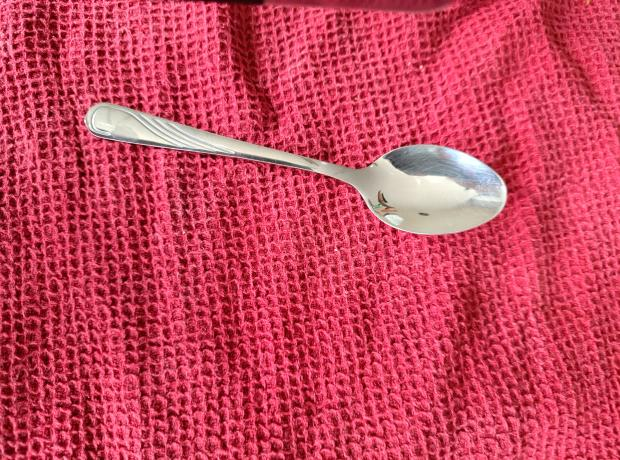metal: (72, 103, 508, 240)
